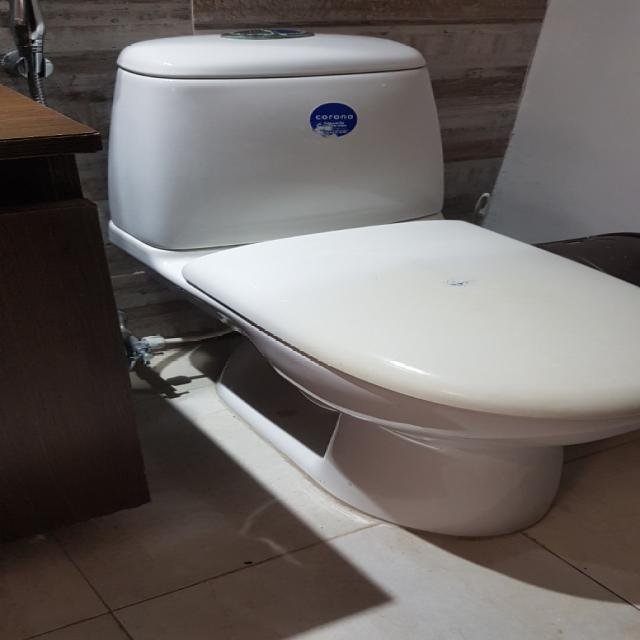toilet: (104, 28, 639, 537)
